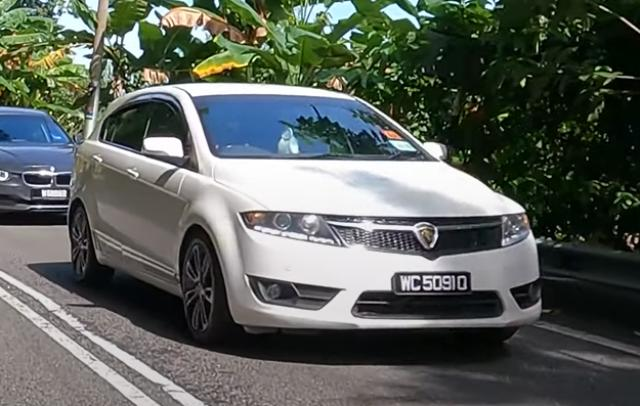License_Plate: (392, 272, 473, 297)
car: (67, 82, 544, 346)
